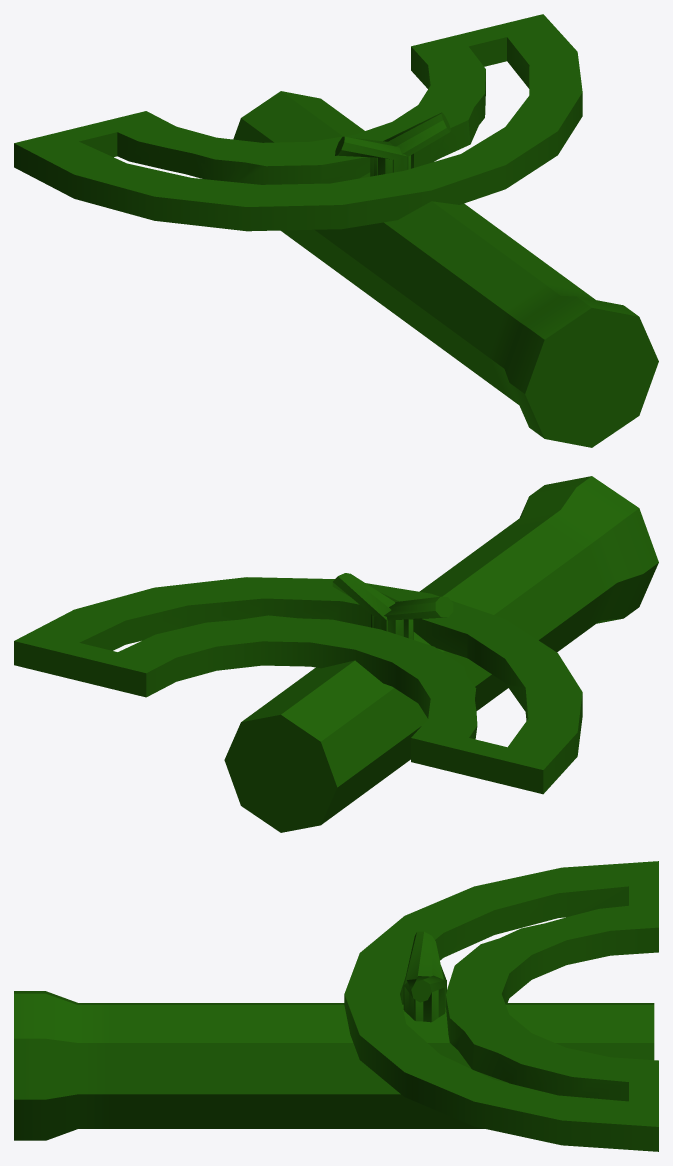
File: 58mm_mortar_FR1915.fbx
3 renders of one model, top to bottom at view 1: azimuth 30°, elevation 25°; view 2: azimuth 150°, elevation 25°; view 3: azimuth 270°, elevation 25°, orthographic. The views are drawn at different scales.
Parts seen in each view (by area): view 1: polySurface2, pCylinder4; view 2: polySurface2, pCylinder4; view 3: pCylinder4, polySurface2.
Boxes of the visible parts, x1=… form: polySurface2: x1=14, y1=14, x2=582, y2=231; pCylinder4: x1=233, y1=91, x2=658, y2=447; polySurface2: x1=14, y1=577, x2=582, y2=794; pCylinder4: x1=224, y1=476, x2=658, y2=832; pCylinder4: x1=14, y1=931, x2=654, y2=1140; polySurface2: x1=344, y1=861, x2=658, y2=1151.
Bounding box in the file's own units: 2 × 0.6394 × 2.05.
